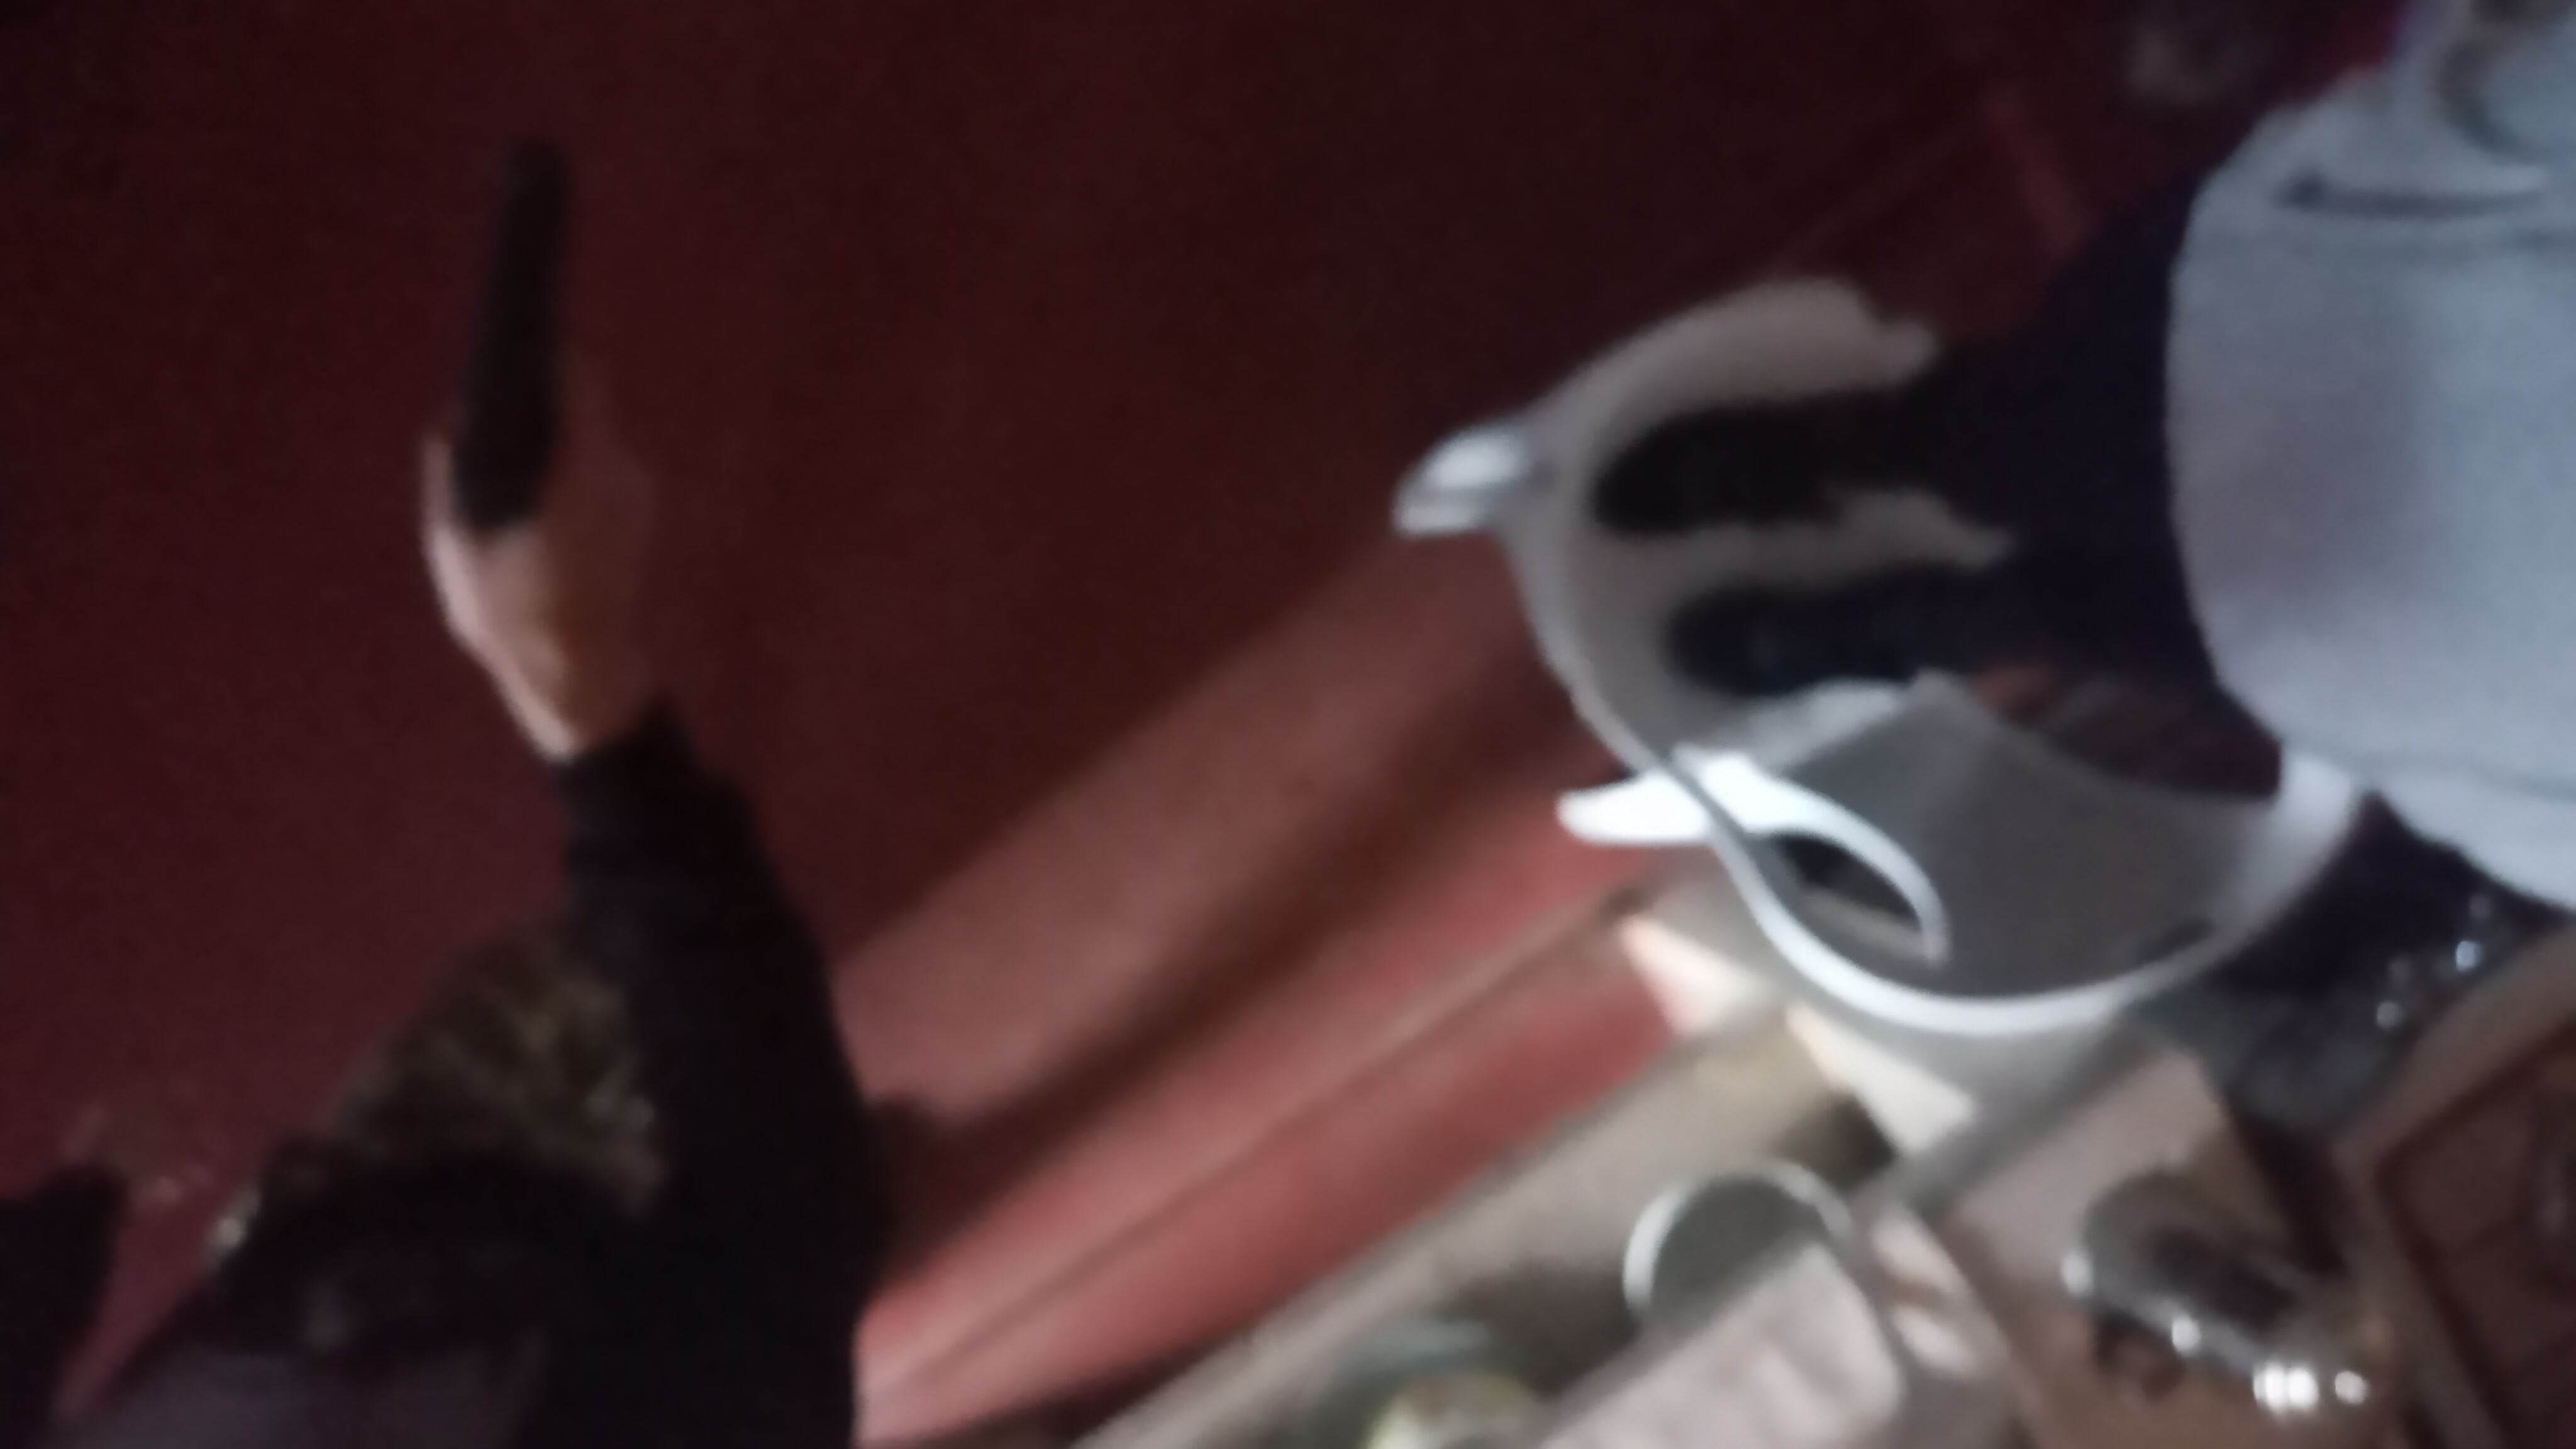Arma: (449, 150, 573, 536)
